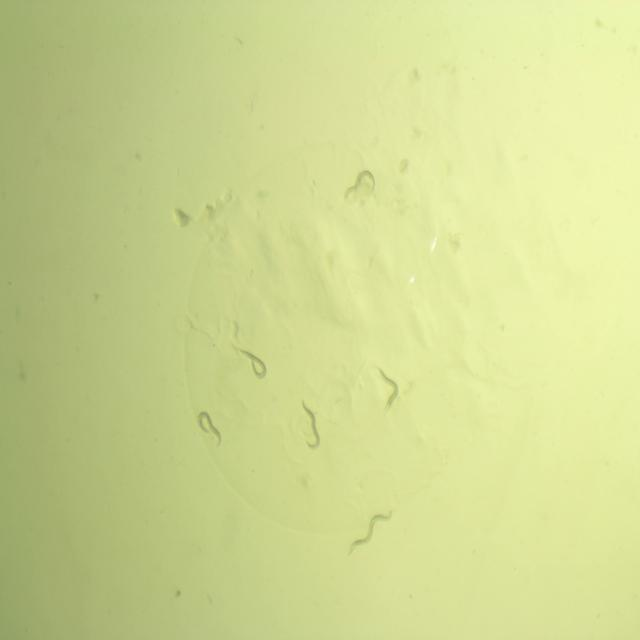worm: (344, 507, 396, 560), (374, 362, 402, 421), (341, 166, 379, 208), (298, 393, 325, 452), (192, 407, 228, 451), (235, 345, 270, 385)
